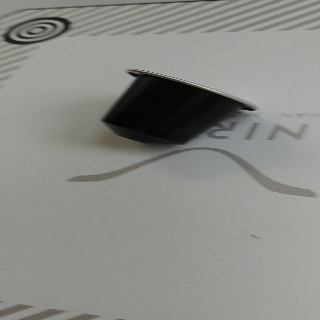capsule_10: (99, 68, 259, 146)
